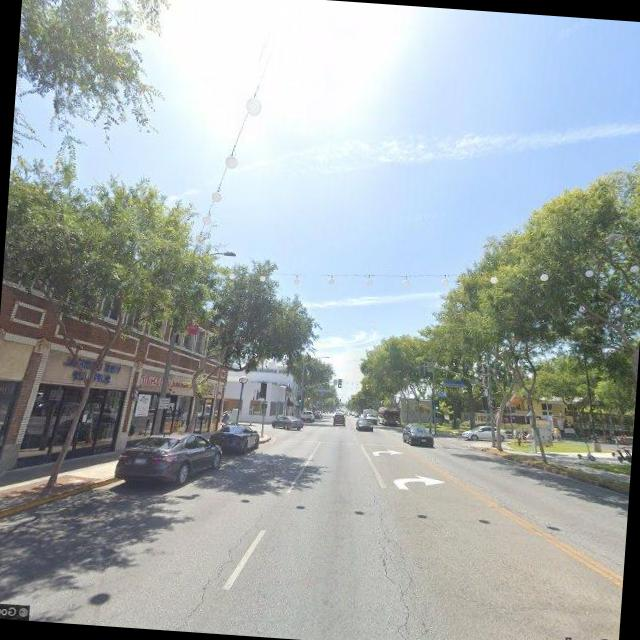pothole: (166, 520, 254, 634), (364, 505, 431, 640)
